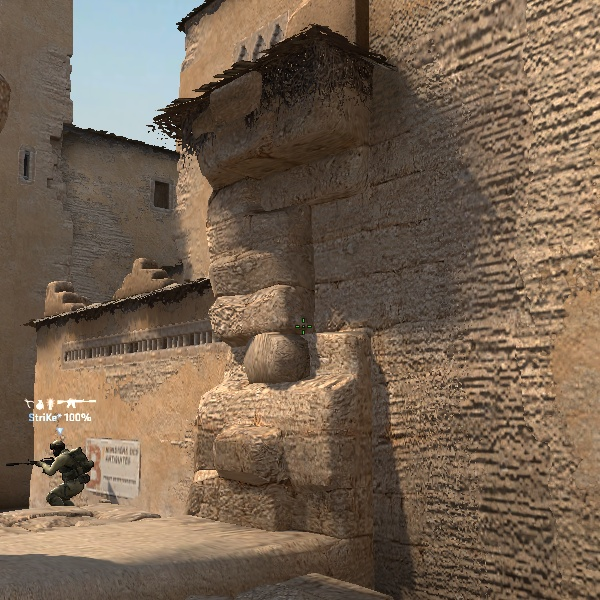ct_body: (34, 439, 91, 507)
ct_head: (49, 438, 66, 457)
